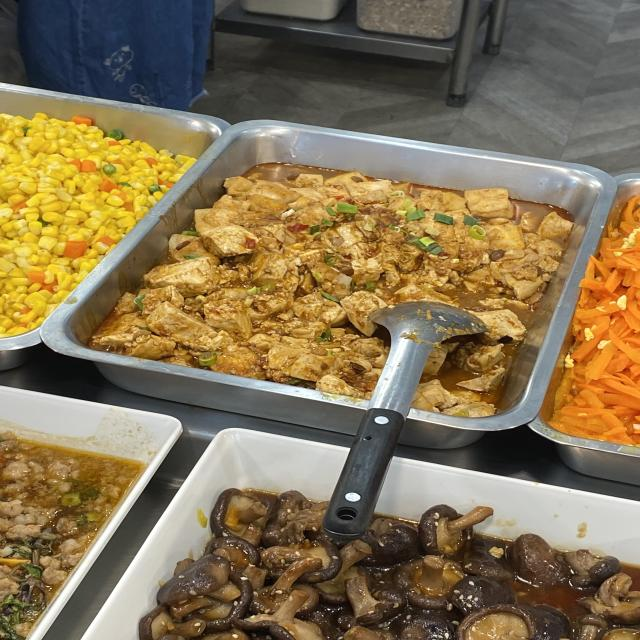Mapo Tofu: (225, 180, 438, 298)
